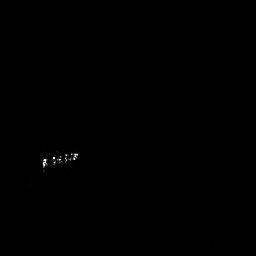ship: (39, 149, 82, 176)
